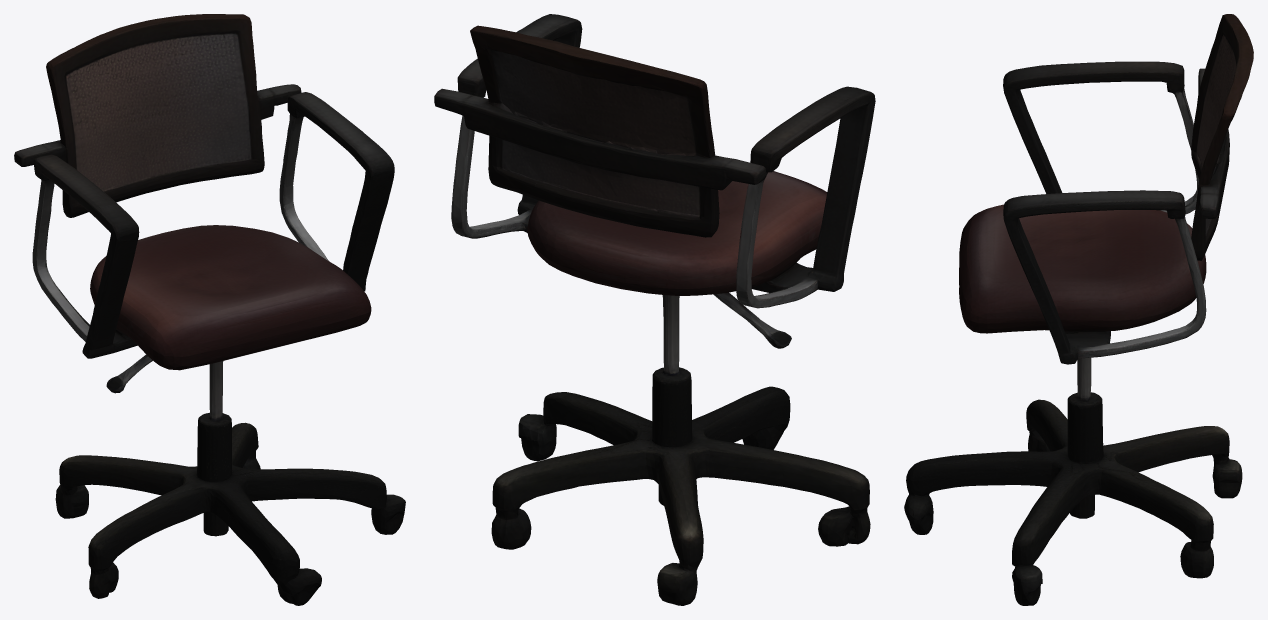
Rendered from round table chair.glb.
3 renders of one model, left to right at view 1: azimuth 30°, elevation 25°; view 2: azimuth 150°, elevation 25°; view 3: azimuth 270°, elevation 25°, orthographic. The views are drawn at different scales.
Visible parts, largest first — view 1: world; view 2: world; view 3: world.
Part boxes in pixels (x1,y1,x2,y2): world: (14, 14, 405, 605); world: (434, 14, 875, 605); world: (904, 14, 1253, 605).
Bounding box in the file's own units: 0.693 × 0.9995 × 0.6622.
1 material, 1 textured.
